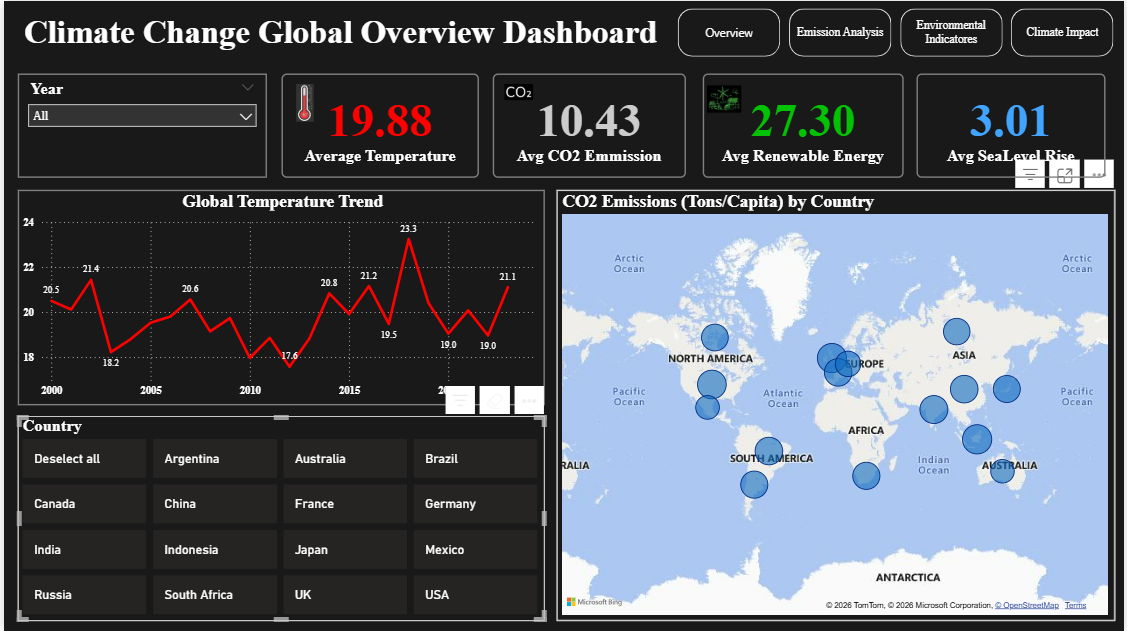

Layout of this report page (visuals, bound fields, positions):
{"tool":"powerbi","page":{"name":"Overview","canvas":[1280,720],"ordinal":0},"visuals":[{"type":"card","fields":{"Values":["climate_change_dataset.Average Temperature"]},"box":[317.8,82.2,225.8,119],"z":0},{"type":"card","fields":{"Values":["climate_change_dataset.Avg CO2 Emmission"]},"box":[558.3,82.2,220.9,119],"z":1000},{"type":"card","fields":{"Values":["climate_change_dataset.Avg Renewable Energy"]},"box":[798.8,82.2,229.4,119],"z":2000},{"type":"textbox","box":[0,8.6,769.3,55.2],"z":3000},{"type":"lineChart","title":"Global Temperature Trend","fields":{"Category":["climate_change_dataset.Year"],"Y":["climate_change_dataset.Average Temperature"]},"box":[16,216,602.5,246.6],"z":4000},{"type":"map","title":"CO2 Emissions (Tons/Capita) by Country","fields":{"Category":["climate_change_dataset.Country"],"Size":["Sum(climate_change_dataset.CO2 Emissions (Tons/Capita))"]},"box":[631.9,216,638,493.3],"z":5000},{"type":"slicer","fields":{"Values":["climate_change_dataset.Year"]},"box":[16,83.4,284.7,119],"z":6000},{"type":"card","fields":{"Values":["climate_change_dataset.Avg SeaLevel Rise"]},"box":[1043,82.2,216,119],"z":7000},{"type":"advancedSlicerVisual","fields":{"Values":["climate_change_dataset.Country"]},"box":[16,474.8,602.5,234.4],"z":8000},{"type":"image","box":[317.8,89.6,54,52.8],"z":9000},{"type":"image","box":[566.9,82.2,42.9,42.9],"z":10000},{"type":"image","box":[798.8,89.6,49.1,44.2],"z":11000},{"type":"pageNavigator","box":[769.3,8.6,500.6,55.2],"z":12000}]}

Visuals, with their boxes in screenshot pixels (x1, y1, x2, y2), scaled from the page's 1280x720 canvas onto the 1127x631 screenshot:
card - climate_change_dataset.Average Temperature: {"x1": 280, "y1": 72, "x2": 479, "y2": 176}
card - climate_change_dataset.Avg CO2 Emmission: {"x1": 492, "y1": 72, "x2": 686, "y2": 176}
card - climate_change_dataset.Avg Renewable Energy: {"x1": 703, "y1": 72, "x2": 905, "y2": 176}
textbox: {"x1": 0, "y1": 8, "x2": 677, "y2": 56}
"Global Temperature Trend" lineChart: {"x1": 14, "y1": 189, "x2": 545, "y2": 405}
"CO2 Emissions (Tons/Capita) by Country" map: {"x1": 556, "y1": 189, "x2": 1118, "y2": 622}
slicer - climate_change_dataset.Year: {"x1": 14, "y1": 73, "x2": 265, "y2": 177}
card - climate_change_dataset.Avg SeaLevel Rise: {"x1": 918, "y1": 72, "x2": 1109, "y2": 176}
advancedSlicerVisual - climate_change_dataset.Country: {"x1": 14, "y1": 416, "x2": 545, "y2": 622}
image: {"x1": 280, "y1": 79, "x2": 327, "y2": 125}
image: {"x1": 499, "y1": 72, "x2": 537, "y2": 110}
image: {"x1": 703, "y1": 79, "x2": 747, "y2": 117}
pageNavigator: {"x1": 677, "y1": 8, "x2": 1118, "y2": 56}
